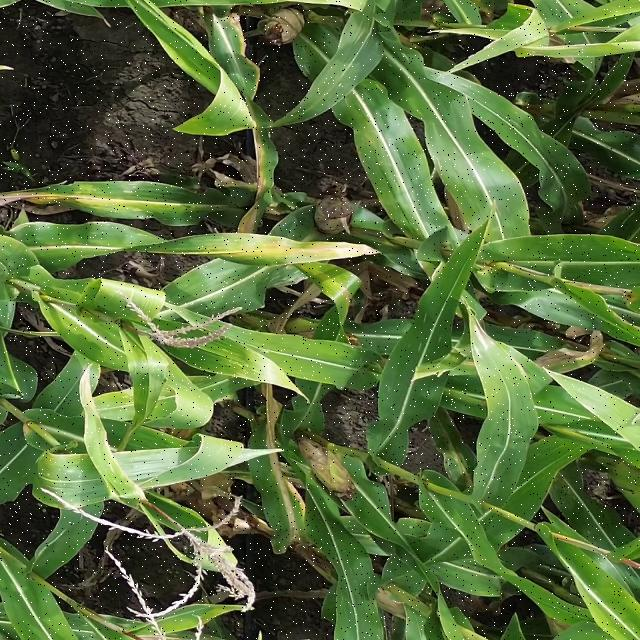gray-leaf-spot: (375, 285, 461, 381), (36, 439, 140, 496)
northern-leaf-blight: (149, 208, 360, 274), (243, 390, 310, 554), (29, 182, 198, 228), (238, 107, 280, 227)
southern-leaf-blight: (187, 322, 300, 399)
